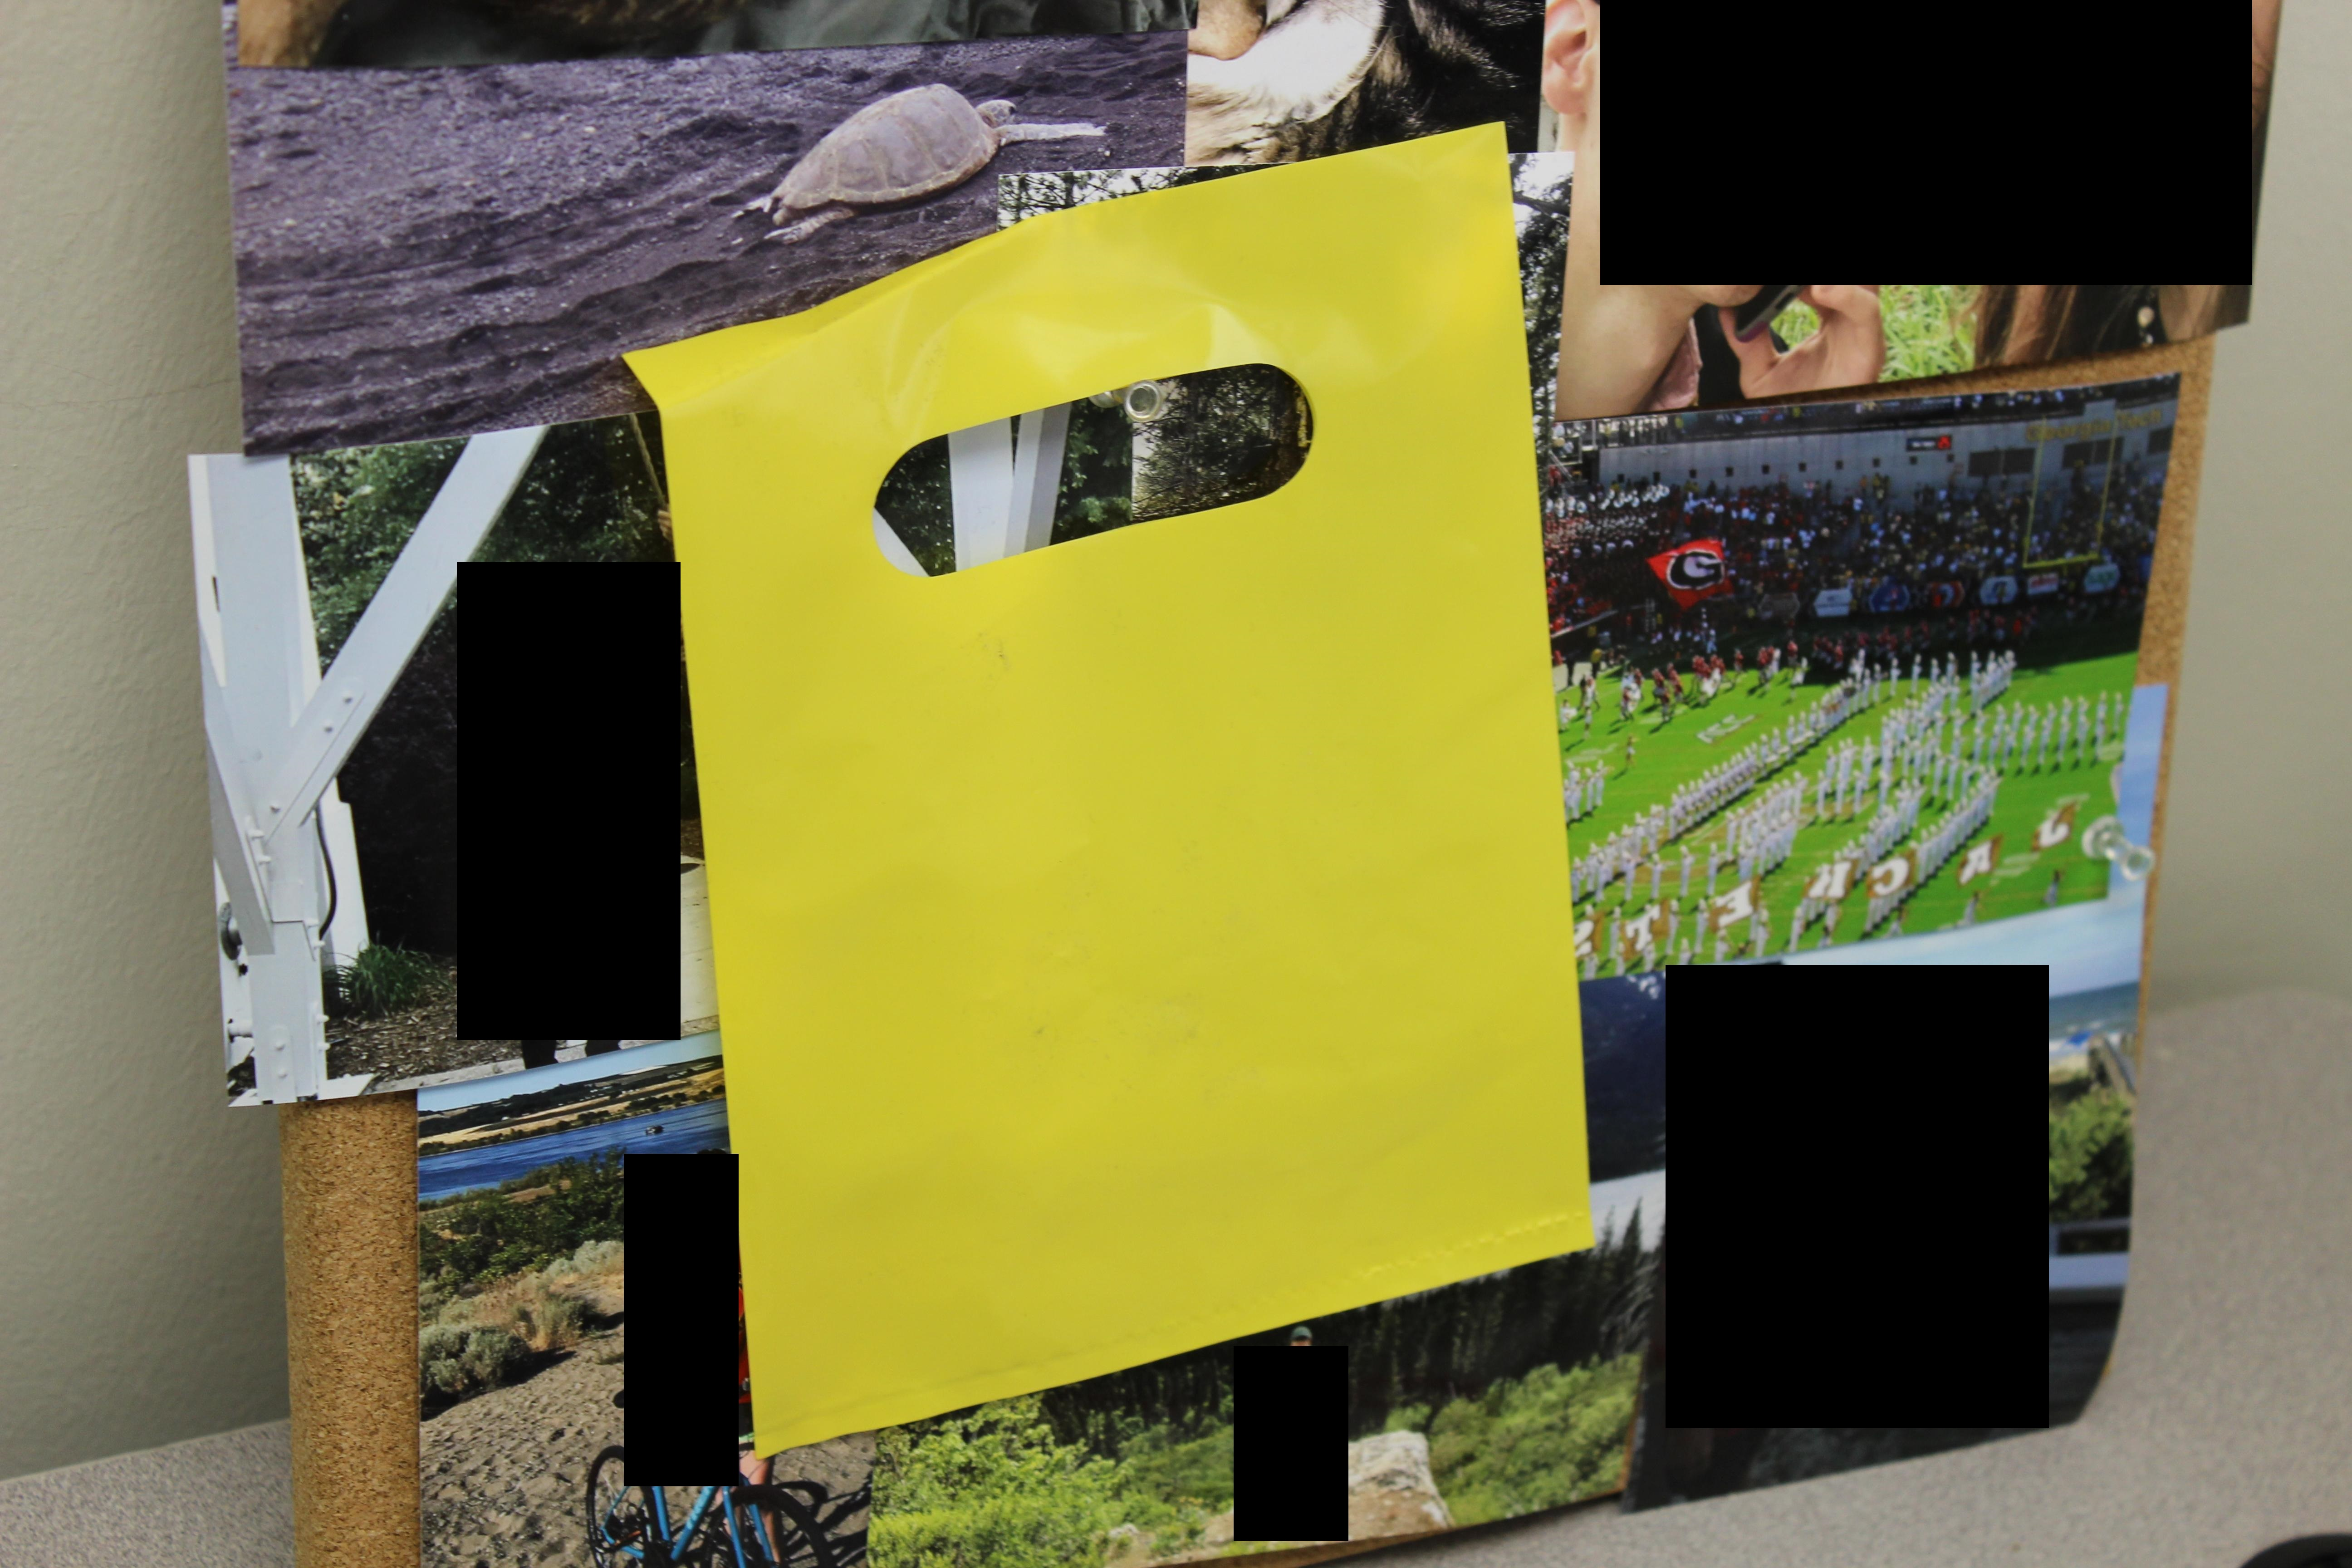yellowBag: (588, 56, 1617, 1505)
